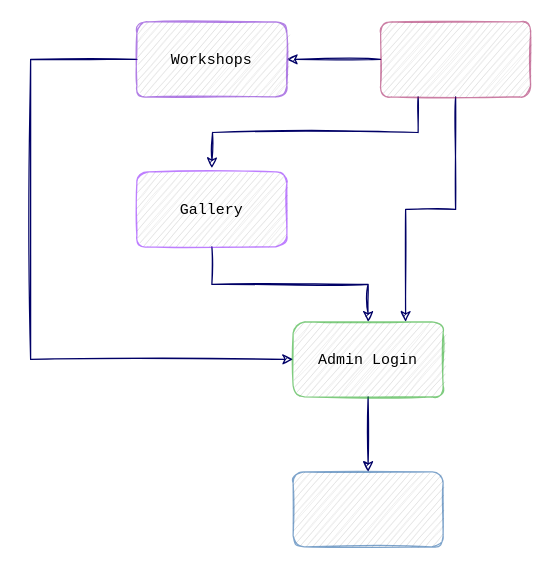
Image size: 553x569. Some labels were removed from this diagram. The shapes that lost their labels are listed below. From the top down, each one's centre as x and y in pixels, then its label:
(x=455, y=59): Base Page
(x=367, y=509): Admin portal
